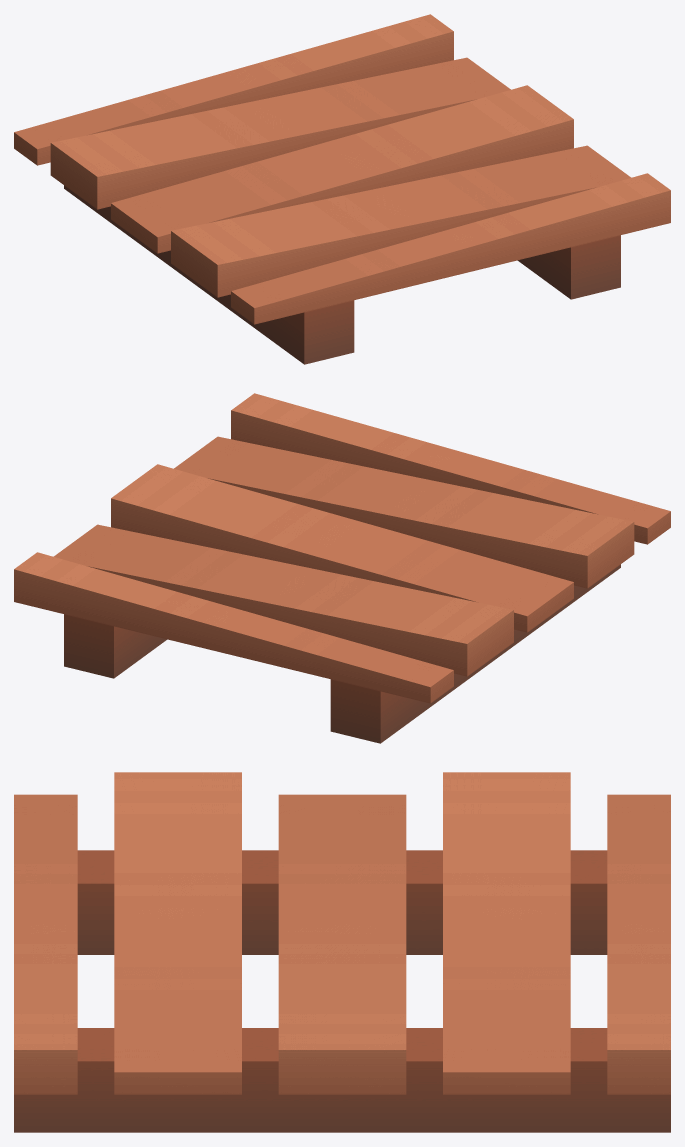
The model's file is platform.glb.
3 views of the same model, one above another, from view 1: azimuth 30°, elevation 25°; view 2: azimuth 150°, elevation 25°; view 3: azimuth 270°, elevation 25° (orthographic). The views are drawn at different scales.
Visible parts, largest first — view 1: platform; view 2: platform; view 3: platform.
Boxes of the visible parts, x1,y1,x2,y2 form: platform: (14, 14, 670, 364); platform: (14, 393, 670, 743); platform: (14, 772, 670, 1132).
Size of the model in its own units: 1 by 0.195 by 1.
Materials: 1 (1 with a texture image).
